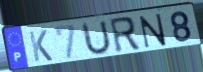7: (53, 22, 80, 62)
8: (170, 10, 194, 44)
K: (27, 29, 54, 63)
N: (138, 12, 168, 50)
R: (108, 15, 142, 55)
U: (81, 19, 113, 58)
